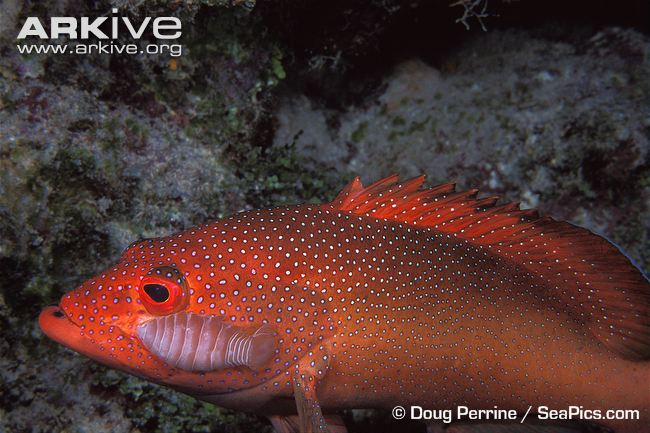Cephalopholis_fulvaw: (33, 177, 650, 428)
